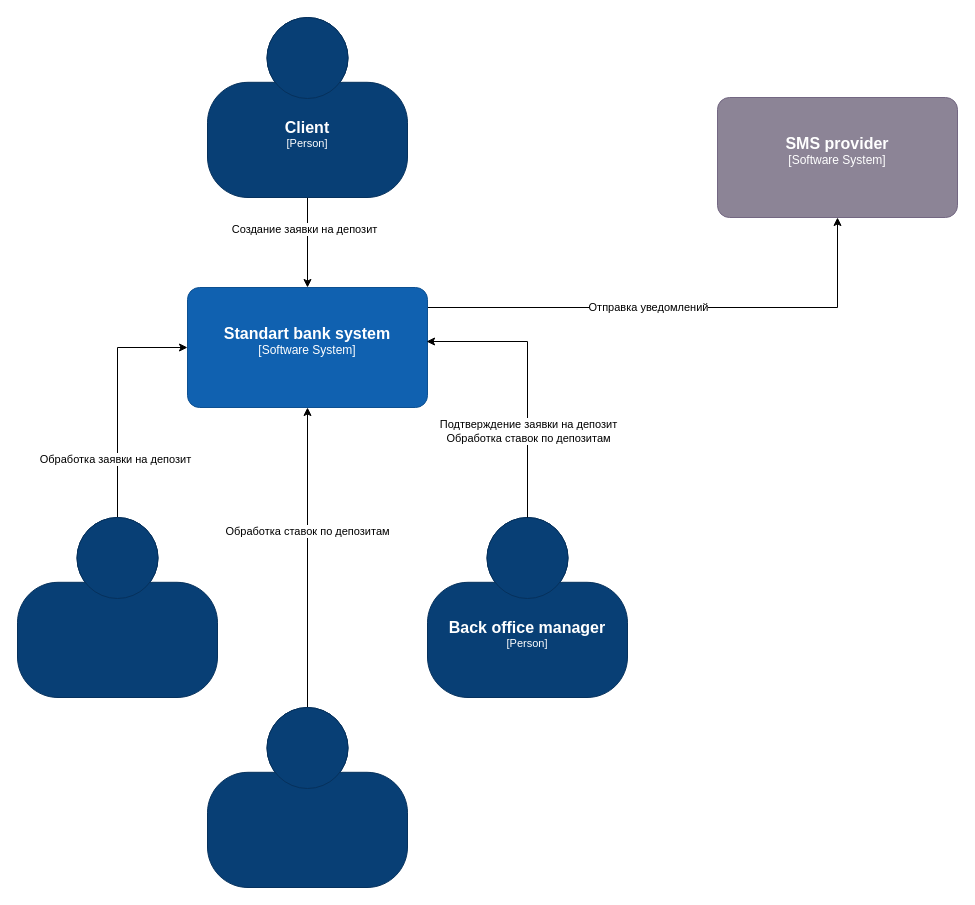
Some shapes in this 975 by 905 pixel diagram are drawn without their labels. The centre of each missing label's shape, as x and y in pixels:
Call-center manager [Person]: the point at 117,607
Front-center manager [Person]: the point at 307,797
